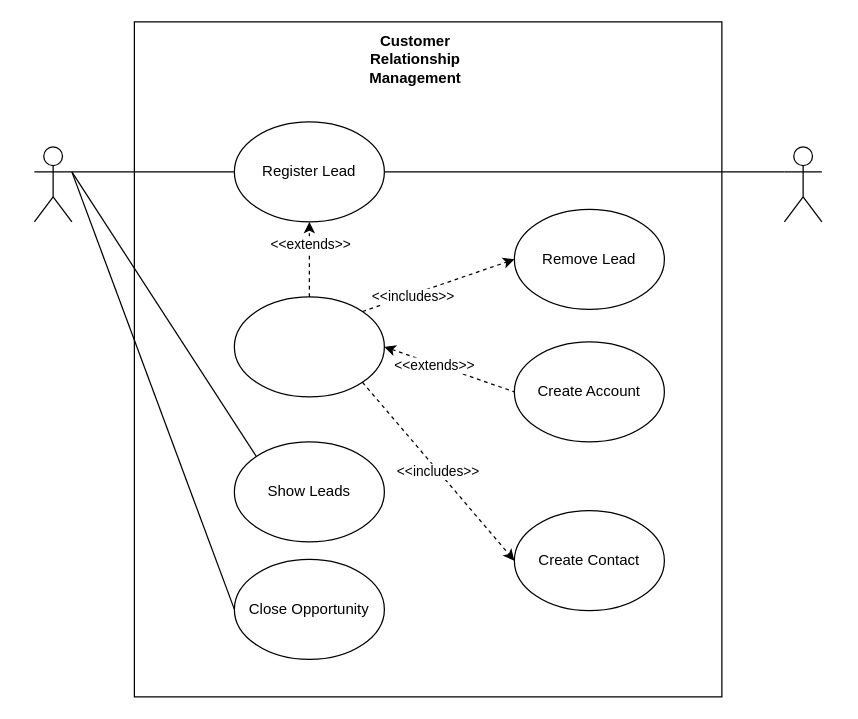
Some shapes in this 858 by 719 pixel diagram are drawn without their labels. The shapes that lost their labels are listed below. From the top down, each one's centre as x and y in pixels, then its label:
At (x=52, y=184): "Company".
At (x=802, y=184): "Customer".
At (x=308, y=346): "Convert to Opportunity".
